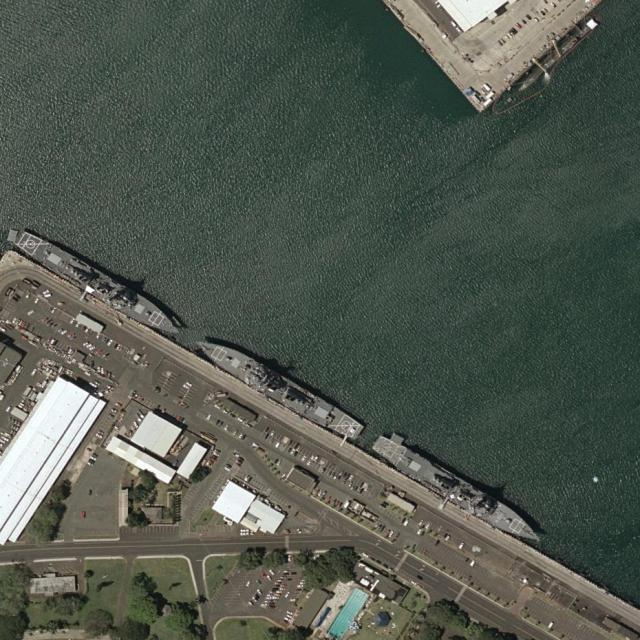Destroyer: (368, 432, 548, 548), (191, 332, 367, 443), (15, 228, 183, 341)
Submarine: (515, 14, 599, 93)
